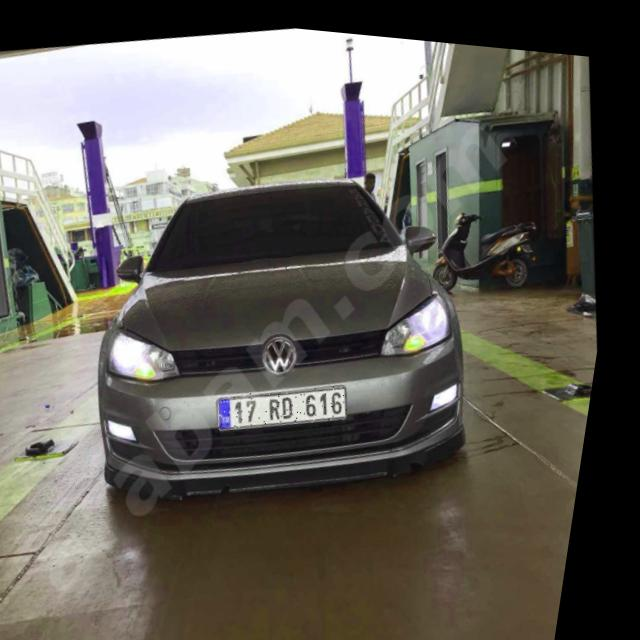license_plate: (225, 368, 362, 433)
